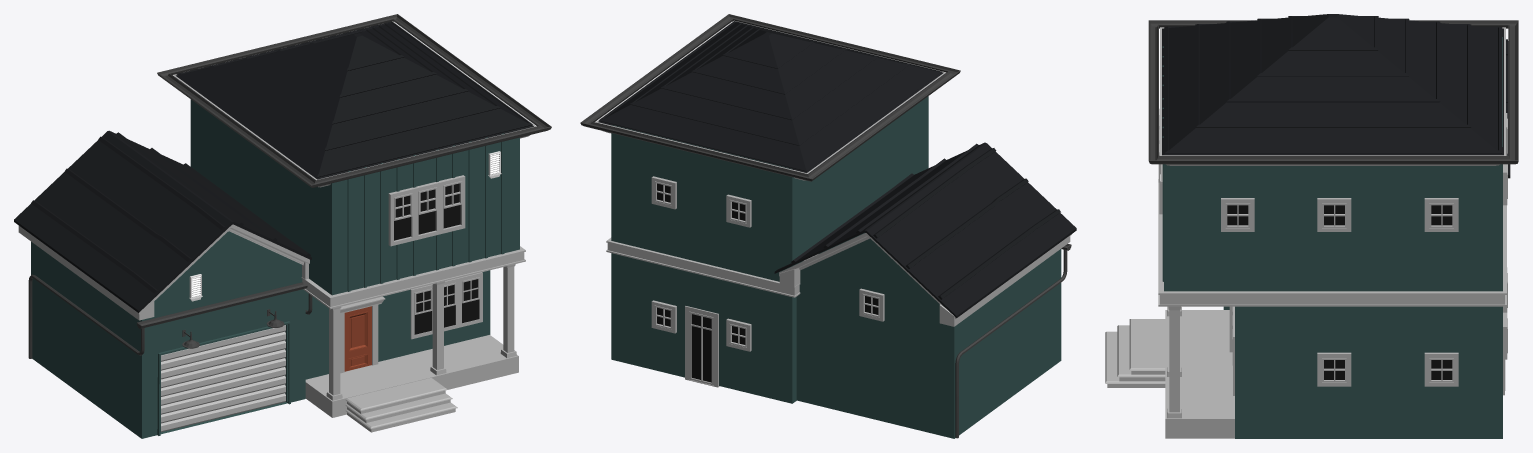
File: SM_house_suburb_003.fbx
3 renders of one model, left to right at view 1: azimuth 30°, elevation 25°; view 2: azimuth 150°, elevation 25°; view 3: azimuth 270°, elevation 25°, orthographic. The views are drawn at different scales.
Visible parts, largest first — view 1: Box5876; view 2: Box5876; view 3: Box5876.
Part boxes in pixels (bbox=[...]): Box5876: bbox=[14, 14, 551, 438]; Box5876: bbox=[580, 14, 1076, 438]; Box5876: bbox=[1105, 14, 1518, 438].
Size of the model in its own units: 605 by 463 by 467.
